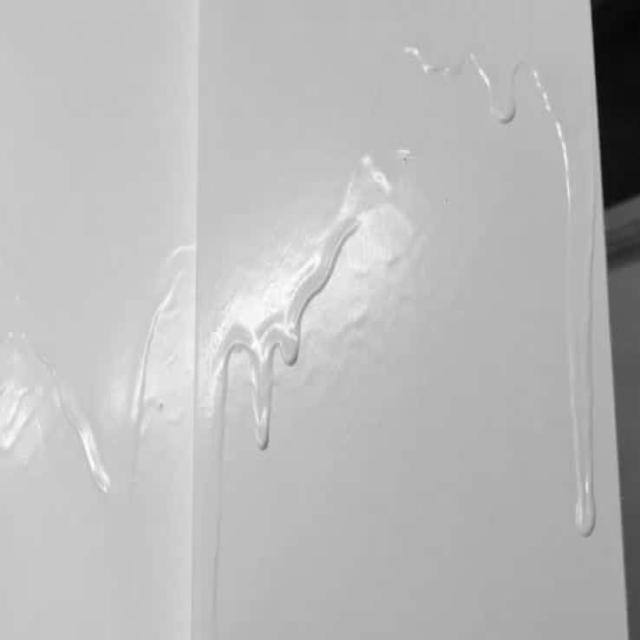paint drips: (395, 5, 602, 581), (153, 144, 384, 517), (2, 308, 136, 576)
